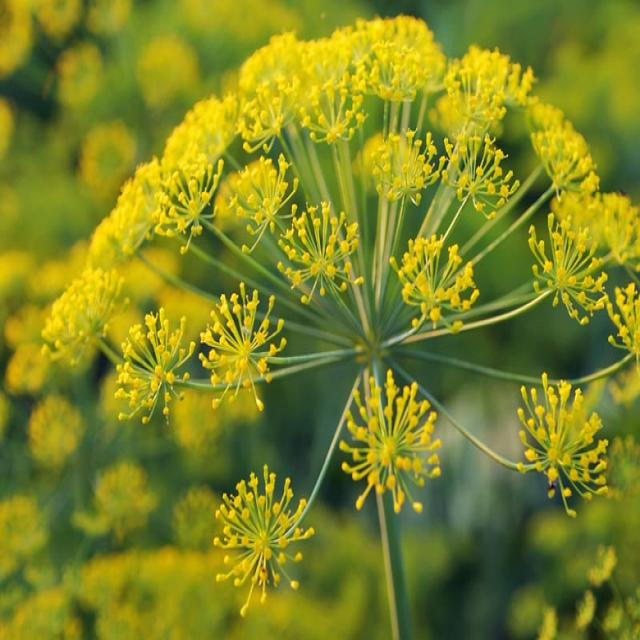Dill: (40, 12, 640, 620)
